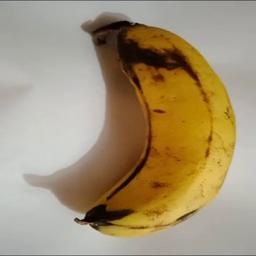Banana Semifresh: (84, 14, 238, 236)
